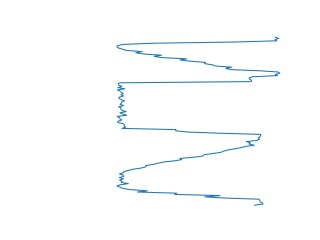distributaryChannelFill: (113, 72, 266, 143)
mouthBar: (113, 33, 283, 79)
underwaterDistributaryChannel: (113, 138, 267, 208)
